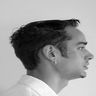ear: (38, 41, 64, 69)
